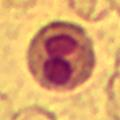monocyte: (25, 17, 96, 90)
